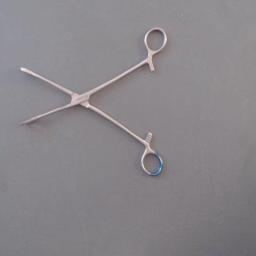Sponge Forceps: (15, 19, 169, 181)
